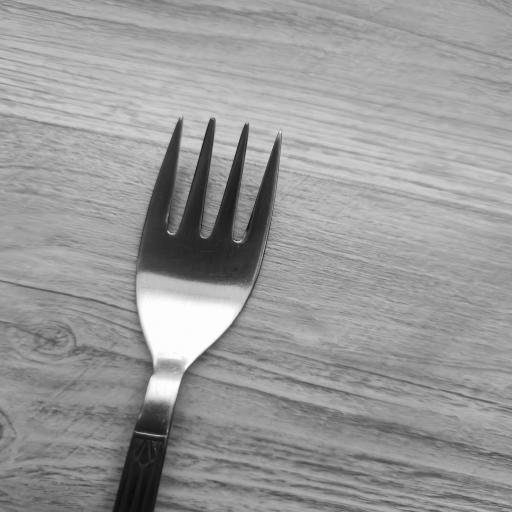fork: (107, 114, 293, 512)
